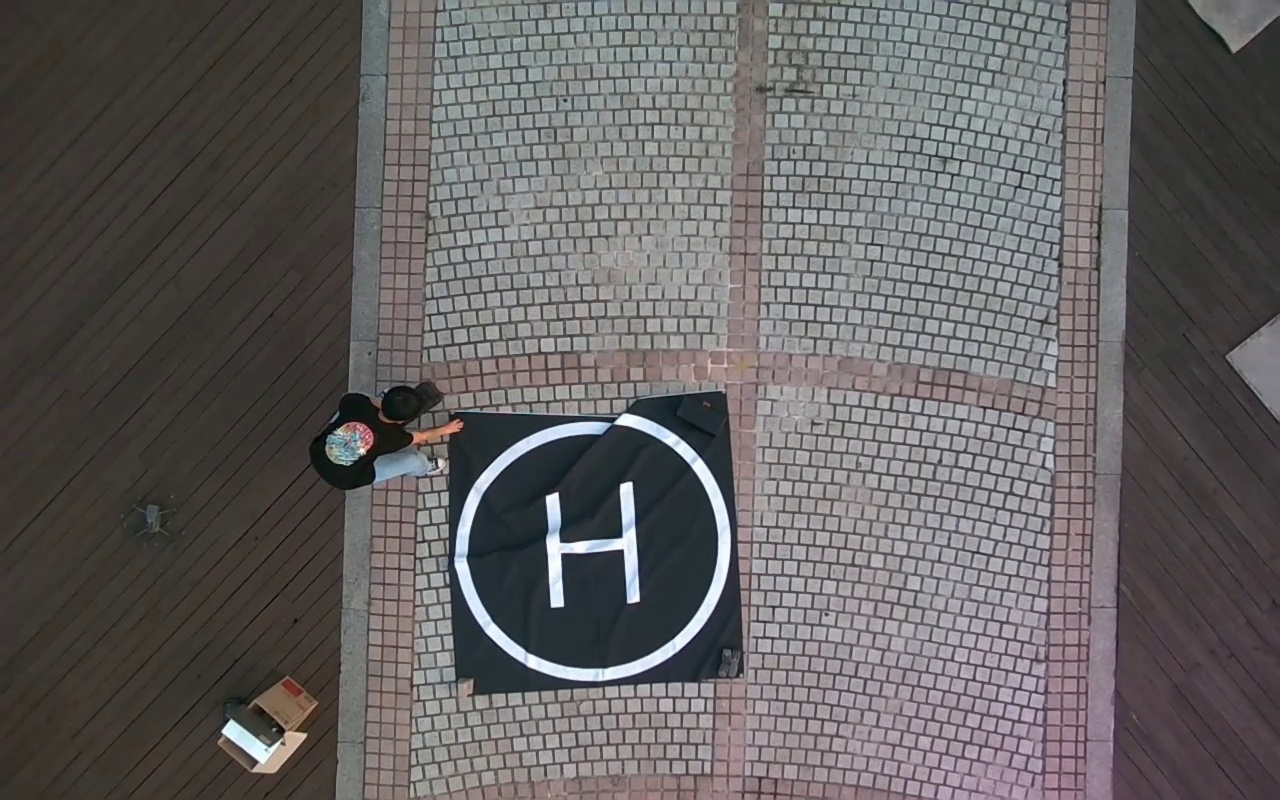H: (540, 479, 642, 608)
